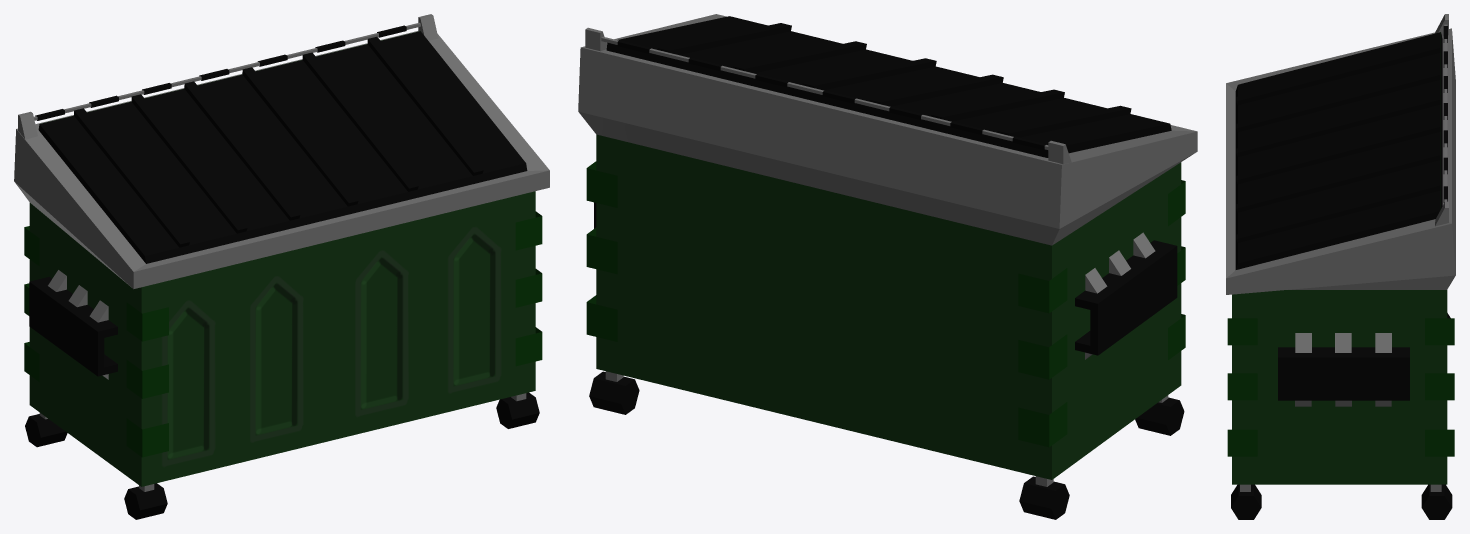
The model's file is LixeiraGrande_LOD0.fbx.
3 views of the same model, side by side, from view 1: azimuth 30°, elevation 25°; view 2: azimuth 150°, elevation 25°; view 3: azimuth 270°, elevation 25° (orthographic). The views are drawn at different scales.
Parts seen in each view (by area): view 1: LixeiraGrande_Lod0; view 2: LixeiraGrande_Lod0; view 3: LixeiraGrande_Lod0.
Part boxes in pixels (x1,y1,x2,y2): LixeiraGrande_Lod0: (14,14,549,519); LixeiraGrande_Lod0: (578,14,1197,519); LixeiraGrande_Lod0: (1226,14,1455,519).
Size of the model in its own units: 251 by 180 by 119.
